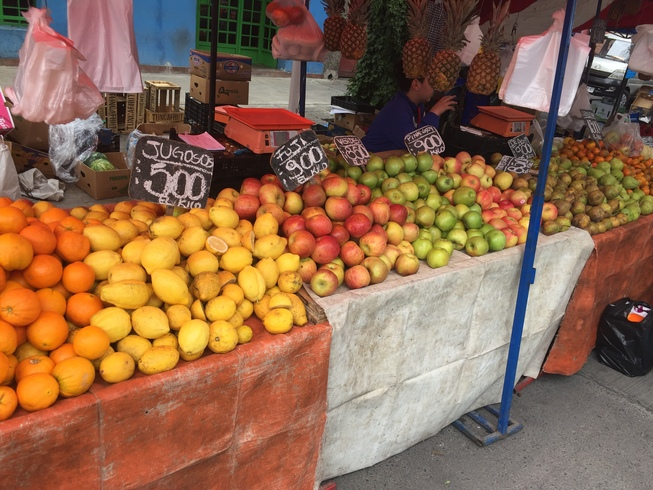precio: (124, 134, 223, 220), (264, 126, 333, 195), (400, 122, 451, 168), (332, 126, 377, 170), (580, 108, 609, 147), (508, 131, 538, 164), (498, 152, 531, 181)
